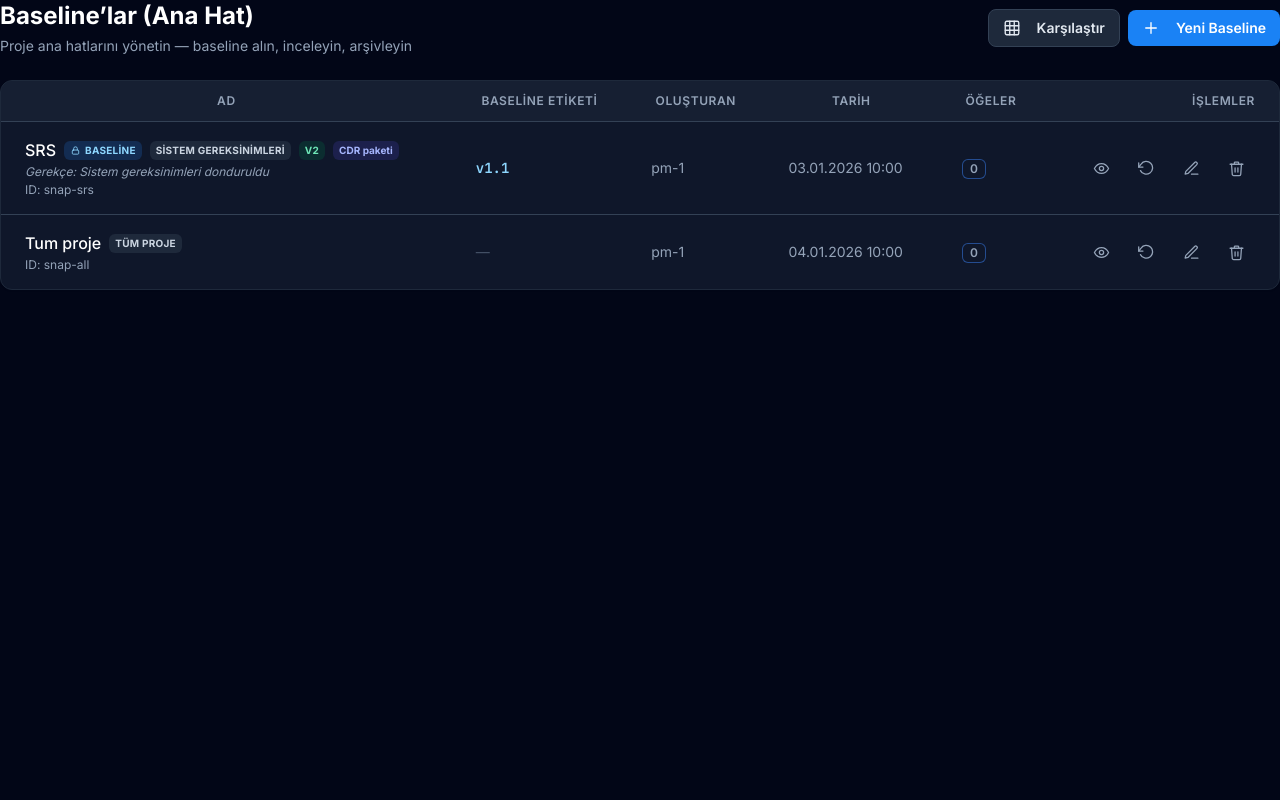
Test: Geri yukleme — kapsam ve kismi secim › onizleme kapsami ve kapsam disi bag sayisini soyler
Click the button named "Güncel baseline’a geri dön" in the row of "Gerekçe" at (1146, 168), box [1128, 154, 1165, 182]
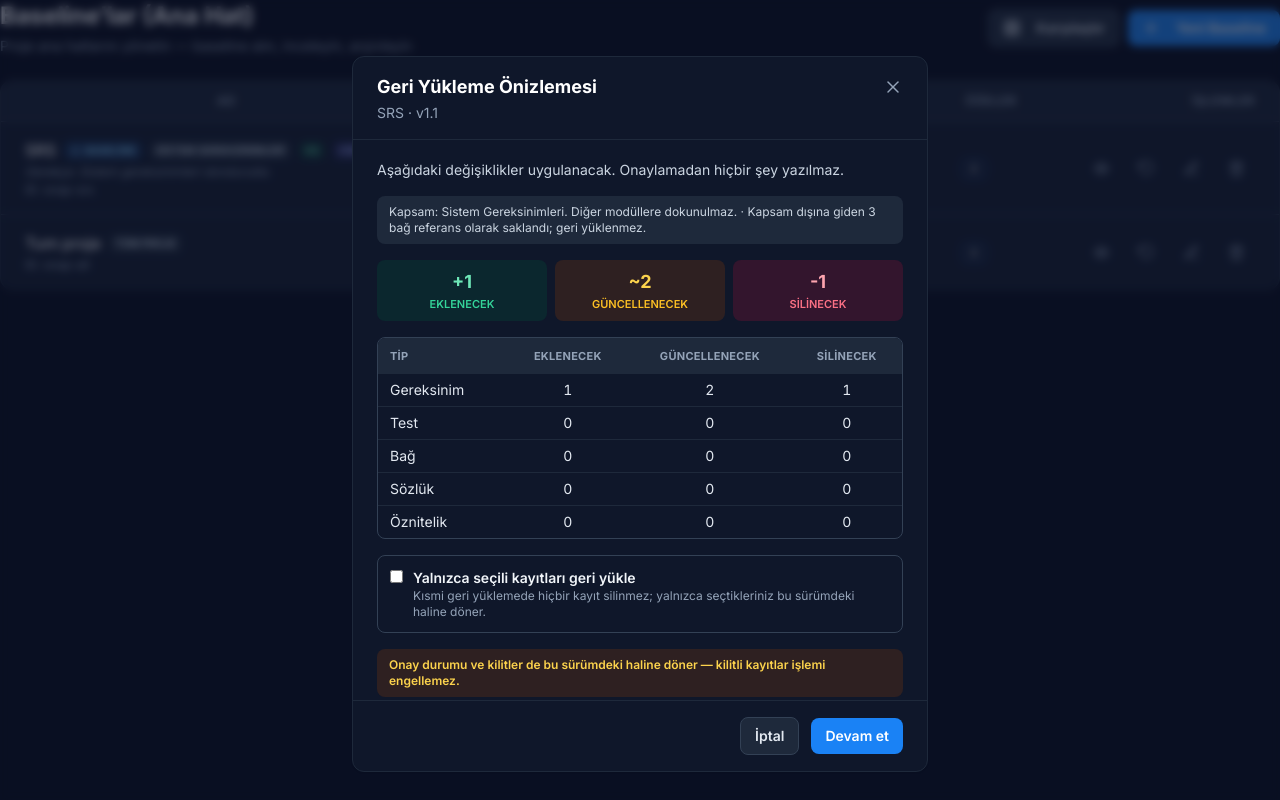
Now the element with test id "restore-totals" is shown, box [377, 260, 903, 320]
Now the text with test id "restore-scope" shows "Sistem Gereksinimleri", box [389, 204, 737, 219]
Now the text with test id "restore-scope" shows "Diğer modüllere dokunulmaz", box [389, 204, 737, 219]
